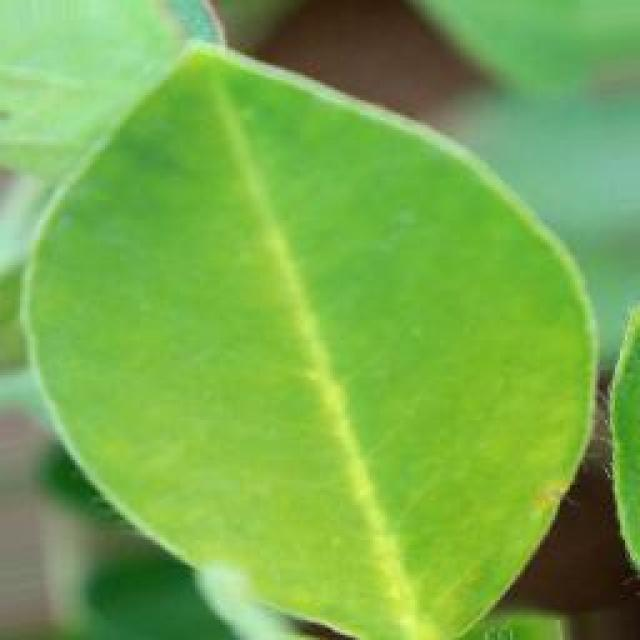Yellow_and_black_sigatoka: (17, 40, 598, 640)
